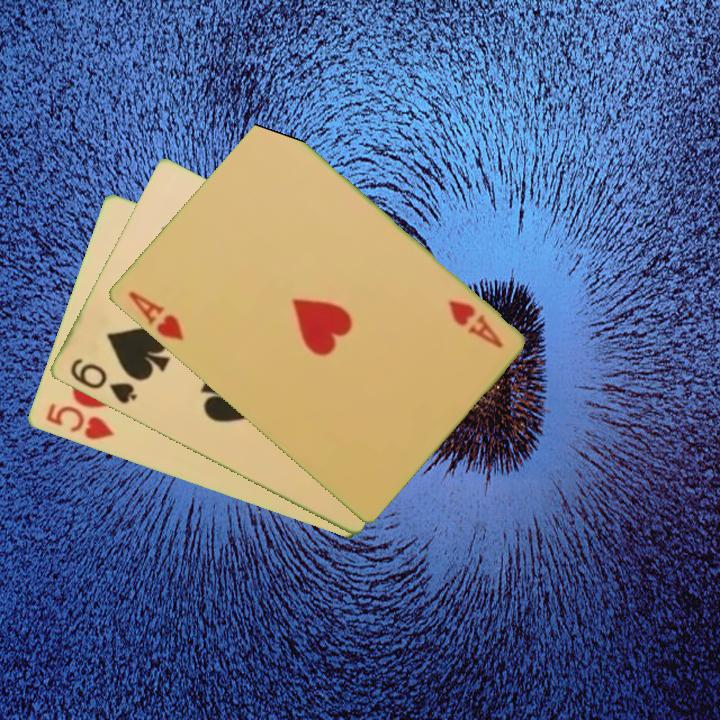5h: (41, 400, 117, 443)
6s: (66, 355, 140, 407)
Ah: (124, 287, 186, 344), (444, 297, 506, 351)
